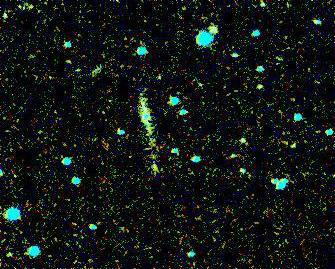star: (199, 12, 229, 42)
